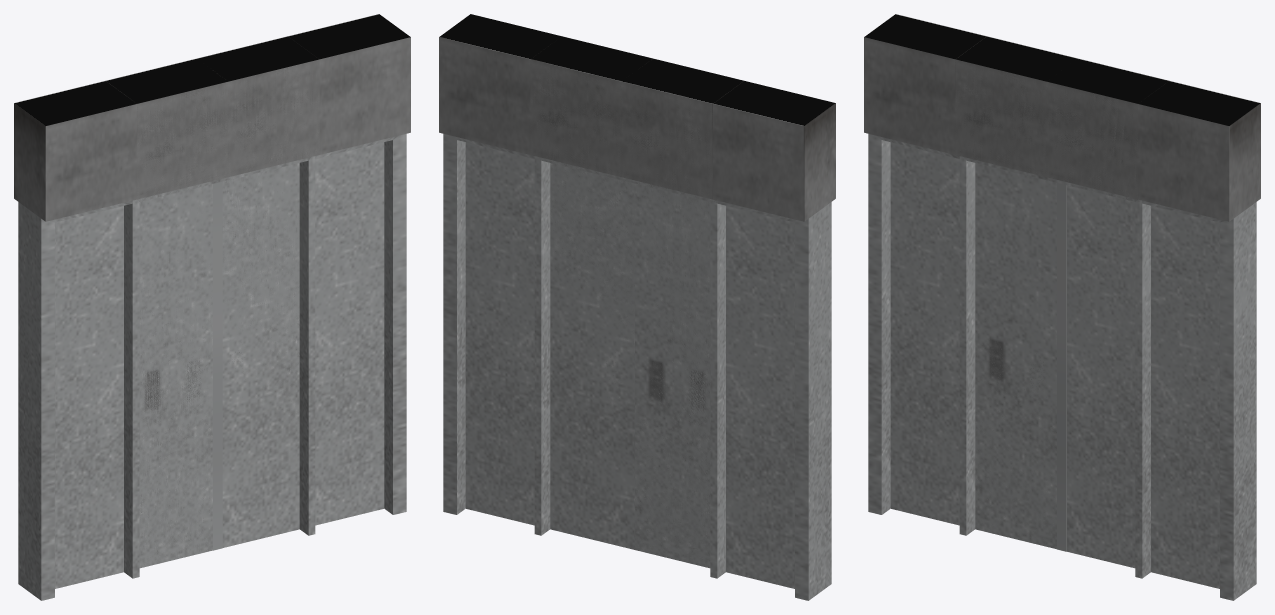
Rendered from Door_Steel_Normal.fbx.
3 views of the same model, side by side, from view 1: azimuth 30°, elevation 25°; view 2: azimuth 150°, elevation 25°; view 3: azimuth 330°, elevation 25° (orthographic).
Parts seen in each view (by area): view 1: Wall_Door_Steel_Normal_Double, Wall_Door_Steel_Normal_Single_Leaf, Wall_Door_Steel_Normal_Double_Right, Wall_Door_Steel_Normal_Double_Left, Wall_Door_Steel_Normal_Single; view 2: Wall_Door_Steel_Normal_Double, Wall_Door_Steel_Normal_Double_Left, Wall_Door_Steel_Normal_Single_Leaf, Wall_Door_Steel_Normal_Single, Wall_Door_Steel_Normal_Double_Right; view 3: Wall_Door_Steel_Normal_Double, Wall_Door_Steel_Normal_Single_Leaf, Wall_Door_Steel_Normal_Single, Wall_Door_Steel_Normal_Double_Right, Wall_Door_Steel_Normal_Double_Left.
Boxes of the visible parts, x1,y1,x2,y2 form: Wall_Door_Steel_Normal_Double: [14, 14, 410, 600]; Wall_Door_Steel_Normal_Single_Leaf: [139, 167, 299, 568]; Wall_Door_Steel_Normal_Double_Right: [213, 142, 384, 550]; Wall_Door_Steel_Normal_Double_Left: [55, 189, 212, 588]; Wall_Door_Steel_Normal_Single: [105, 36, 319, 578]; Wall_Door_Steel_Normal_Double: [439, 14, 835, 600]; Wall_Door_Steel_Normal_Double_Left: [635, 183, 794, 588]; Wall_Door_Steel_Normal_Single_Leaf: [550, 163, 710, 568]; Wall_Door_Steel_Normal_Single: [530, 36, 744, 578]; Wall_Door_Steel_Normal_Double_Right: [465, 142, 634, 525]; Wall_Door_Steel_Normal_Double: [864, 14, 1260, 600]; Wall_Door_Steel_Normal_Single_Leaf: [975, 163, 1135, 568]; Wall_Door_Steel_Normal_Single: [955, 36, 1169, 578]; Wall_Door_Steel_Normal_Double_Right: [1057, 183, 1219, 588]; Wall_Door_Steel_Normal_Double_Left: [890, 142, 1056, 548].
Size of the model in its own units: 200 by 250 by 30.
